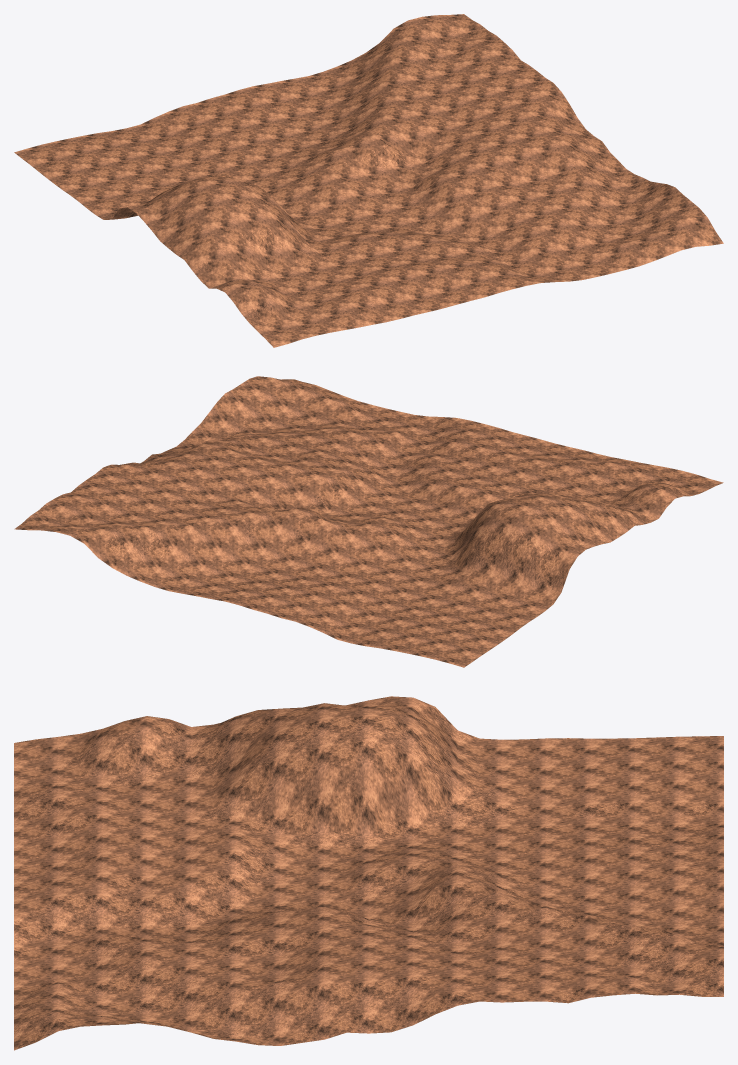
The model's file is terrain_06_07.dae.
3 views of the same model, one above another, from view 1: azimuth 30°, elevation 25°; view 2: azimuth 150°, elevation 25°; view 3: azimuth 270°, elevation 25° (orthographic). The views are drawn at different scales.
Visible parts, largest first — view 1: terrain_06_07-node; view 2: terrain_06_07-node; view 3: terrain_06_07-node.
Part boxes in pixels (left/top/right/bottom): terrain_06_07-node: left=14, top=14, right=723, bottom=347; terrain_06_07-node: left=14, top=376, right=723, bottom=667; terrain_06_07-node: left=14, top=696, right=723, bottom=1050.
Bounding box in the file's own units: 128 × 128 × 16.78.
1 material, 1 textured.
